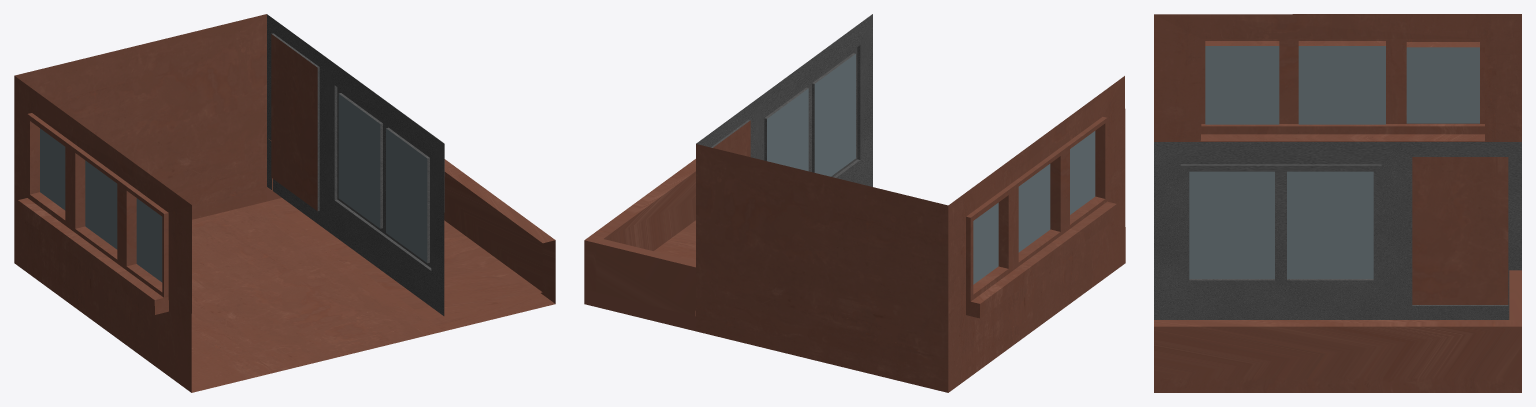
Rendered from Hdb left.fbx.
3 renders of one model, left to right at view 1: azimuth 30°, elevation 25°; view 2: azimuth 150°, elevation 25°; view 3: azimuth 270°, elevation 25°, orthographic. The views are drawn at different scales.
Parts seen in each view (by area): view 1: pCube26; view 2: pCube26; view 3: pCube26.
Boxes of the visible parts, box(x1,y1,x2,y2) form: pCube26: box(14, 14, 555, 392); pCube26: box(584, 14, 1125, 392); pCube26: box(1154, 14, 1521, 392).
Bounding box in the file's own units: 842 × 399 × 684.
Materials: 1 (1 with a texture image).
